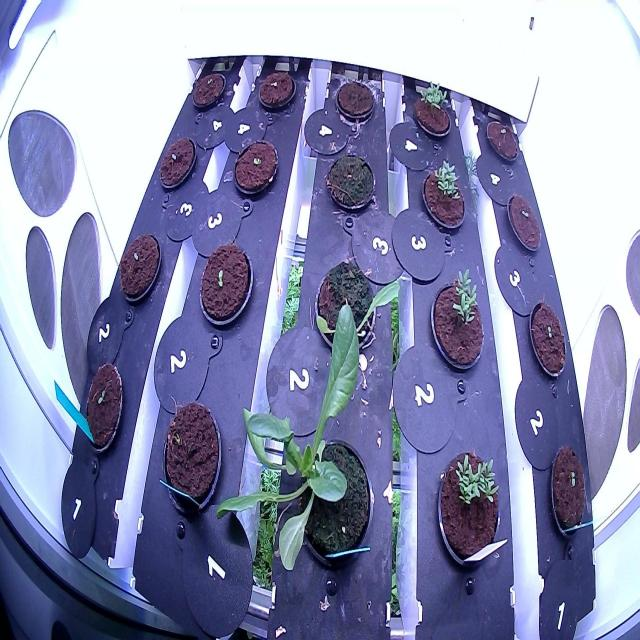germination: (429, 445, 502, 571), (426, 264, 486, 381), (196, 231, 254, 329), (81, 357, 129, 461), (547, 442, 590, 546), (419, 156, 468, 236), (526, 296, 568, 382), (503, 187, 545, 257), (409, 77, 454, 141), (482, 112, 522, 170)
pod: (156, 395, 226, 515), (114, 226, 166, 317), (232, 135, 280, 203), (154, 130, 200, 197), (253, 64, 299, 118), (185, 65, 229, 117), (334, 74, 376, 127)
young: (210, 282, 386, 614), (308, 243, 410, 371)
